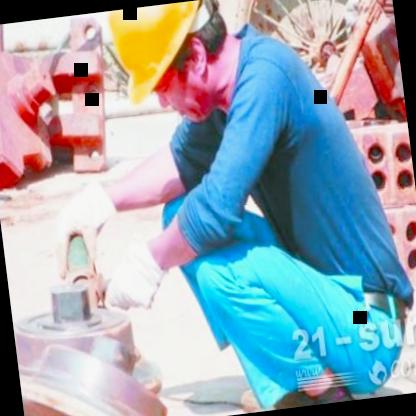helmet: (73, 0, 247, 142)
